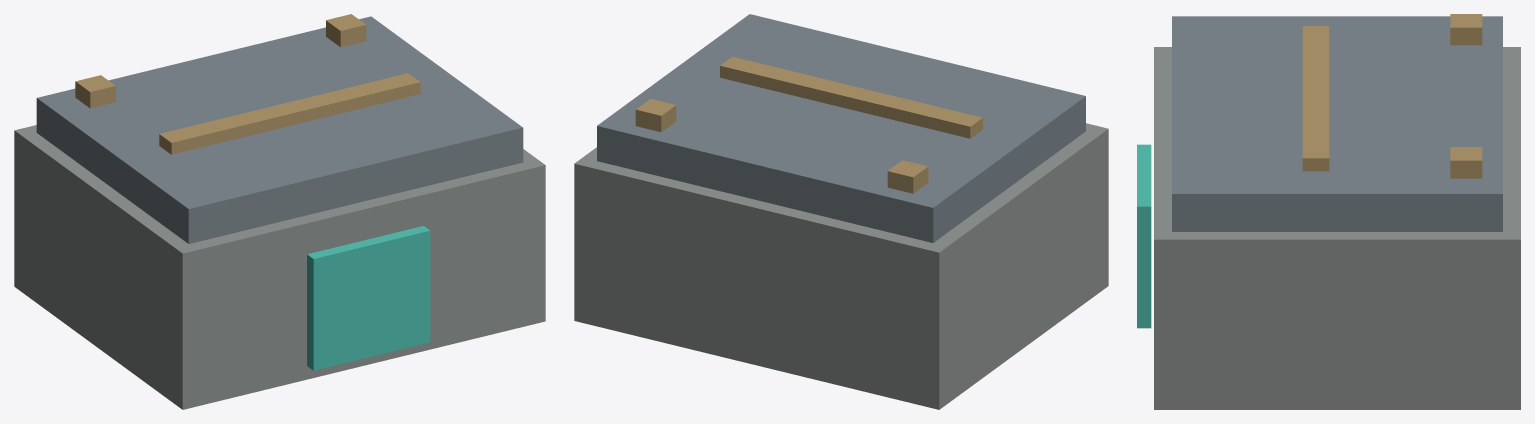
File: building-barracks.glb
3 views of the same model, side by side, from view 1: azimuth 30°, elevation 25°; view 2: azimuth 150°, elevation 25°; view 3: azimuth 270°, elevation 25° (orthographic). The views are drawn at different scales.
Parts seen in each view (by area): view 1: Body; view 2: Body; view 3: Body.
Part boxes in pixels (x1=…): Body: x1=14, y1=14, x2=545, y2=409; Body: x1=574, y1=14, x2=1108, y2=409; Body: x1=1137, y1=14, x2=1520, y2=409.
Bounding box in the file's own units: 2.55 × 1.39 × 2.14.
